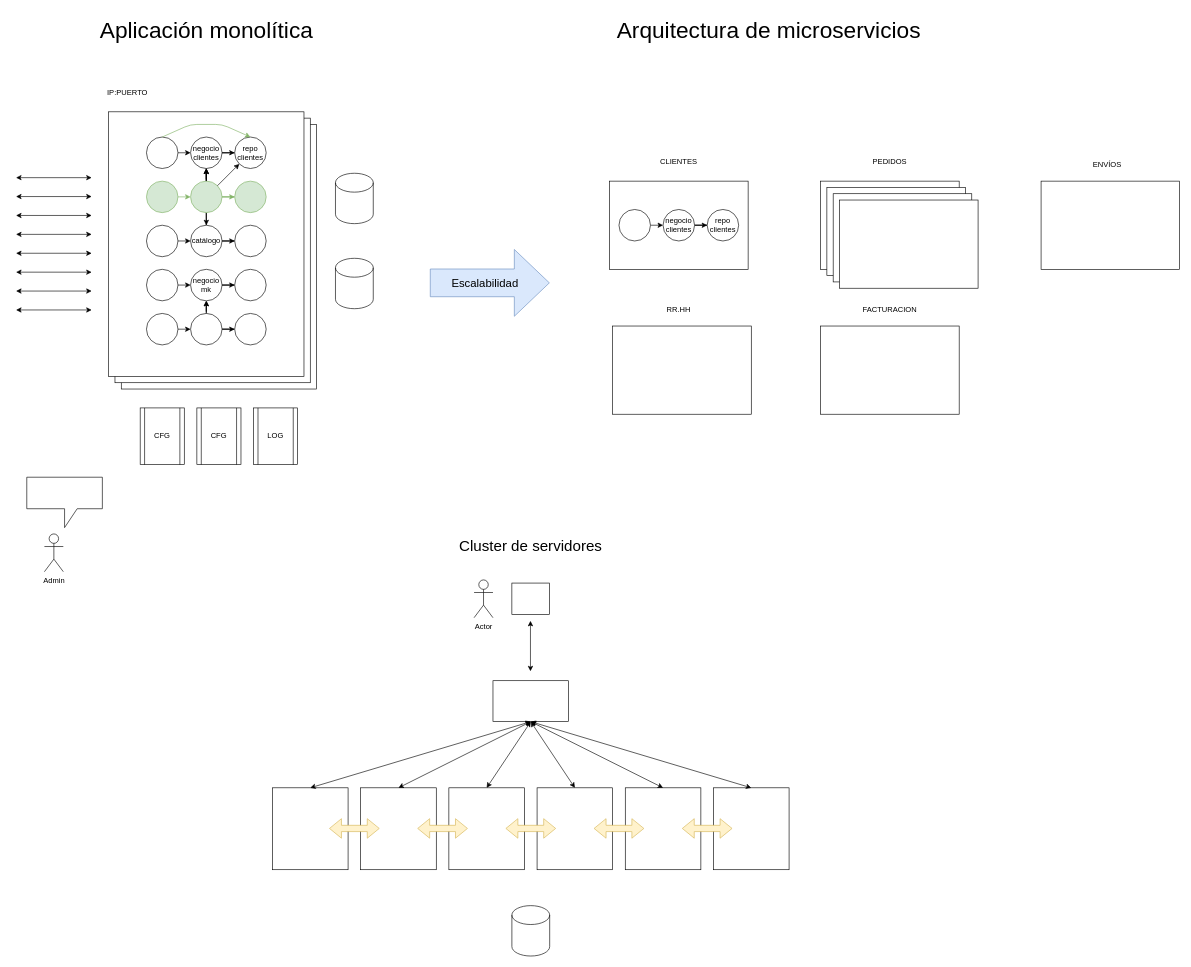
Image size: 1191x967. Some labels were removed from this diagram. Here are the shapes that lost their labels. From the top down, the centre of each, then its label:
At pixel 162 152: "controlador clientes".
At pixel 206 196: "negocio pedidos".
At pixel 634 225: "endpoint".
At pixel 206 329: "negocio RR.HH".
At pixel 64 502: "qué bien, todo juntito".
At pixel 530 701: "BALANCEADOR".
